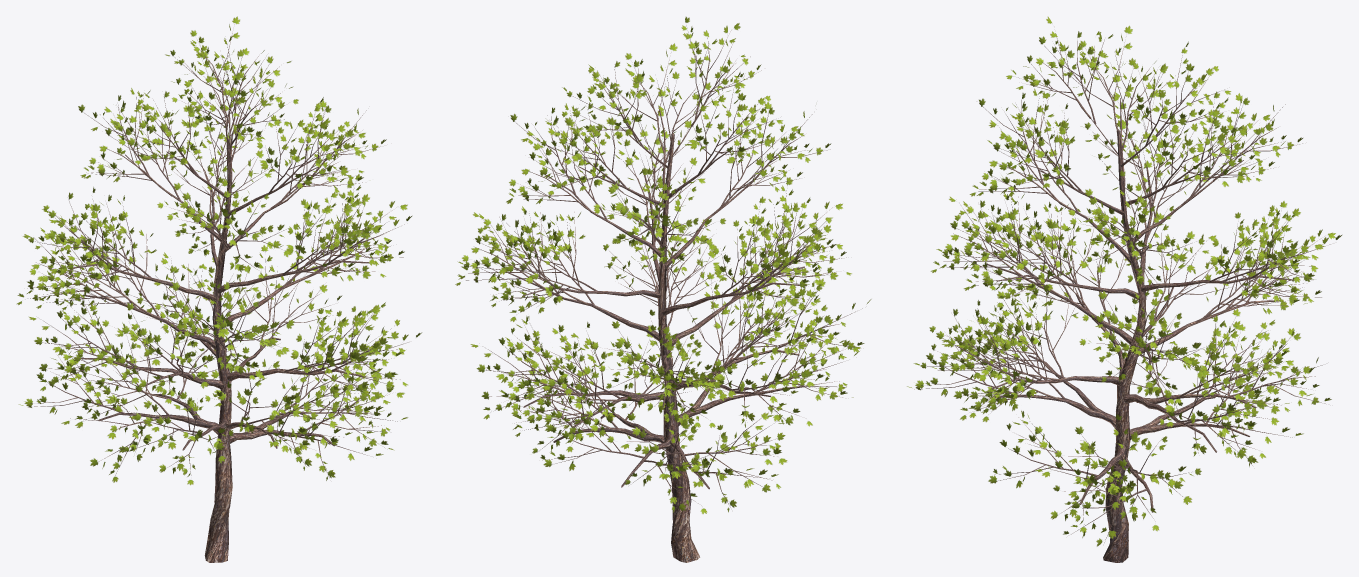
The picture shows the model from 3 angles, left to right: view 1: azimuth 30°, elevation 25°; view 2: azimuth 150°, elevation 25°; view 3: azimuth 270°, elevation 25°; orthographic projection. The views are drawn at different scales.
Parts seen in each view (by area): view 1: object 2, object 1, trunk; view 2: object 2, object 1, trunk; view 3: object 2, object 1, trunk.
Boxes of the visible parts, x1,y1,x2,y2 form: object 2: (16, 16, 421, 485); object 1: (27, 33, 408, 477); trunk: (204, 138, 232, 562); object 2: (455, 17, 871, 513); object 1: (466, 31, 862, 507); trunk: (658, 133, 699, 562); object 2: (907, 17, 1341, 546); object 1: (914, 33, 1330, 542); trunk: (1103, 129, 1146, 562).
Bounding box in the file's own units: 22.38 × 29.66 × 22.28.
Materials: 3 (3 with a texture image).
